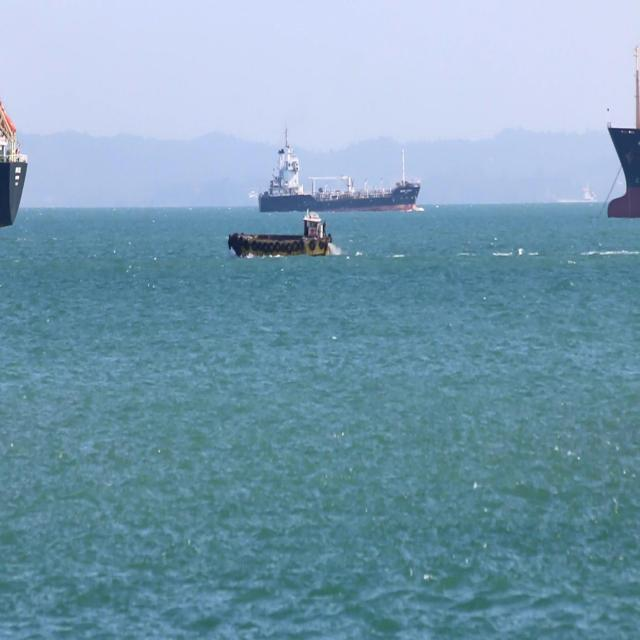CIV_Ship: (258, 121, 420, 211), (606, 44, 640, 218), (228, 210, 334, 260), (0, 100, 27, 227)
